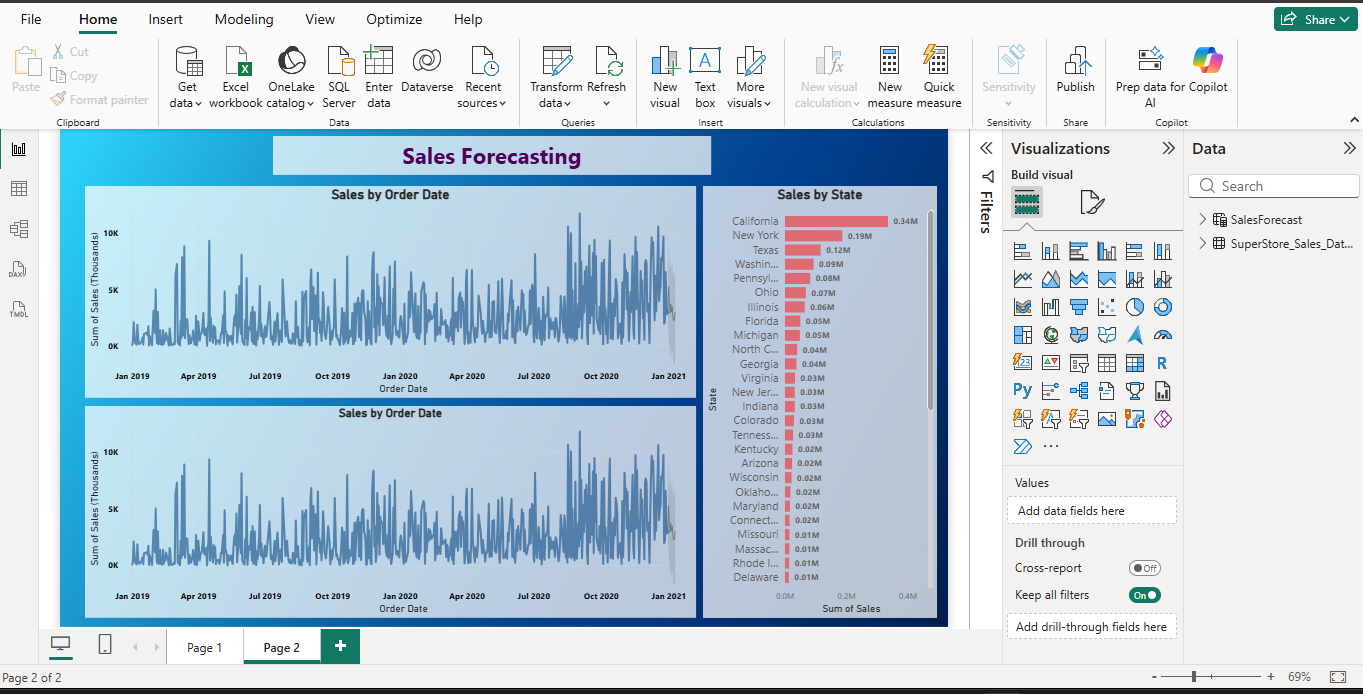

The dashboard page shown, as its layout file describes it:
{"tool":"powerbi","page":{"name":"Page 2","canvas":[1280,720],"ordinal":1},"visuals":[{"type":"lineChart","title":"Sales by Order Date","fields":{"Y":["Sum(SuperStore_Sales_Dataset.Sales)"],"Category":["SuperStore_Sales_Dataset.Order Date"]},"box":[36,398.9,879.8,305.3],"z":0},{"type":"lineChart","title":" Sales by Order Date","fields":{"Y":["Sum(SuperStore_Sales_Dataset.Sales)"],"Category":["SuperStore_Sales_Dataset.Order Date"]},"box":[36,82.1,879.8,305.3],"z":1000},{"type":"clusteredBarChart","title":"Sales by State","fields":{"Category":["SuperStore_Sales_Dataset.State"],"Y":["Sum(SuperStore_Sales_Dataset.Sales)"]},"box":[925.9,82.1,337,622.1],"z":2000},{"type":"textbox","box":[306.7,10.1,630.7,56.2],"z":3000}]}

Visuals, with their boxes on the page's 1280x720 design canvas (x1, y1, x2, y2). These are canvas units, not pixel positions in the 1363x694 screenshot, which may show the page scaled, cropped or inside an application window:
"Sales by Order Date" lineChart: {"left": 36, "top": 399, "right": 916, "bottom": 704}
" Sales by Order Date" lineChart: {"left": 36, "top": 82, "right": 916, "bottom": 387}
"Sales by State" clusteredBarChart: {"left": 926, "top": 82, "right": 1263, "bottom": 704}
textbox: {"left": 307, "top": 10, "right": 937, "bottom": 66}
